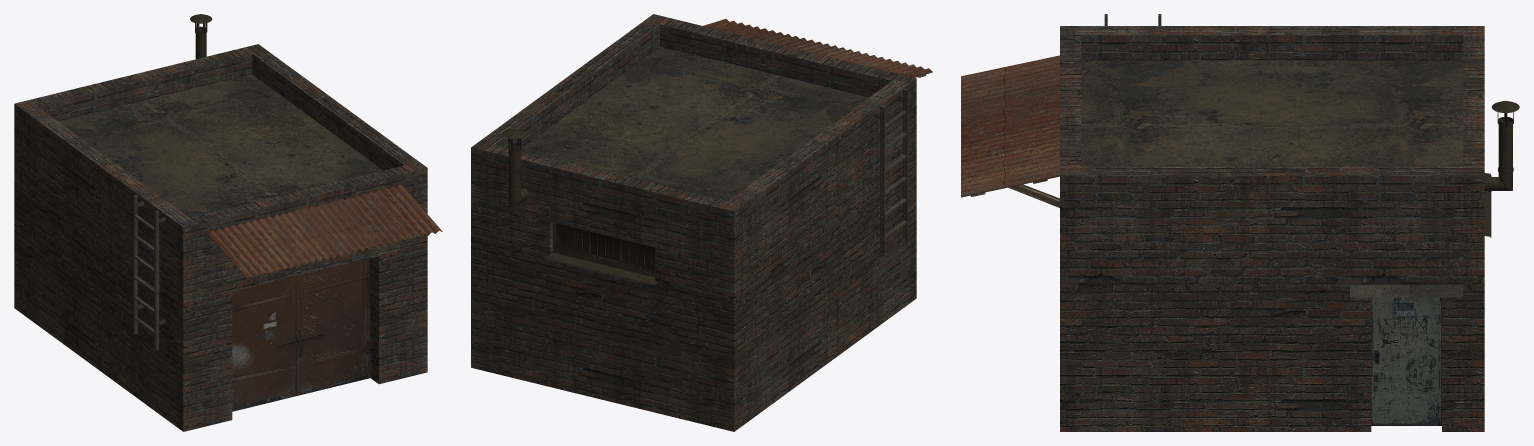
Rendered from garage_hm_2.dae.
3 renders of one model, left to right at view 1: azimuth 30°, elevation 25°; view 2: azimuth 150°, elevation 25°; view 3: azimuth 270°, elevation 25°, orthographic. The views are drawn at different scales.
Visible parts, largest first — view 1: garage_hm_2; view 2: garage_hm_2; view 3: garage_hm_2.
Boxes of the visible parts, x1=… form: garage_hm_2: x1=14, y1=14, x2=442, y2=431; garage_hm_2: x1=471, y1=14, x2=932, y2=431; garage_hm_2: x1=961, y1=14, x2=1519, y2=431.
Bounding box in the file's own units: 5.22 × 7.9 × 4.7.
Materials: 10 (10 with a texture image).
